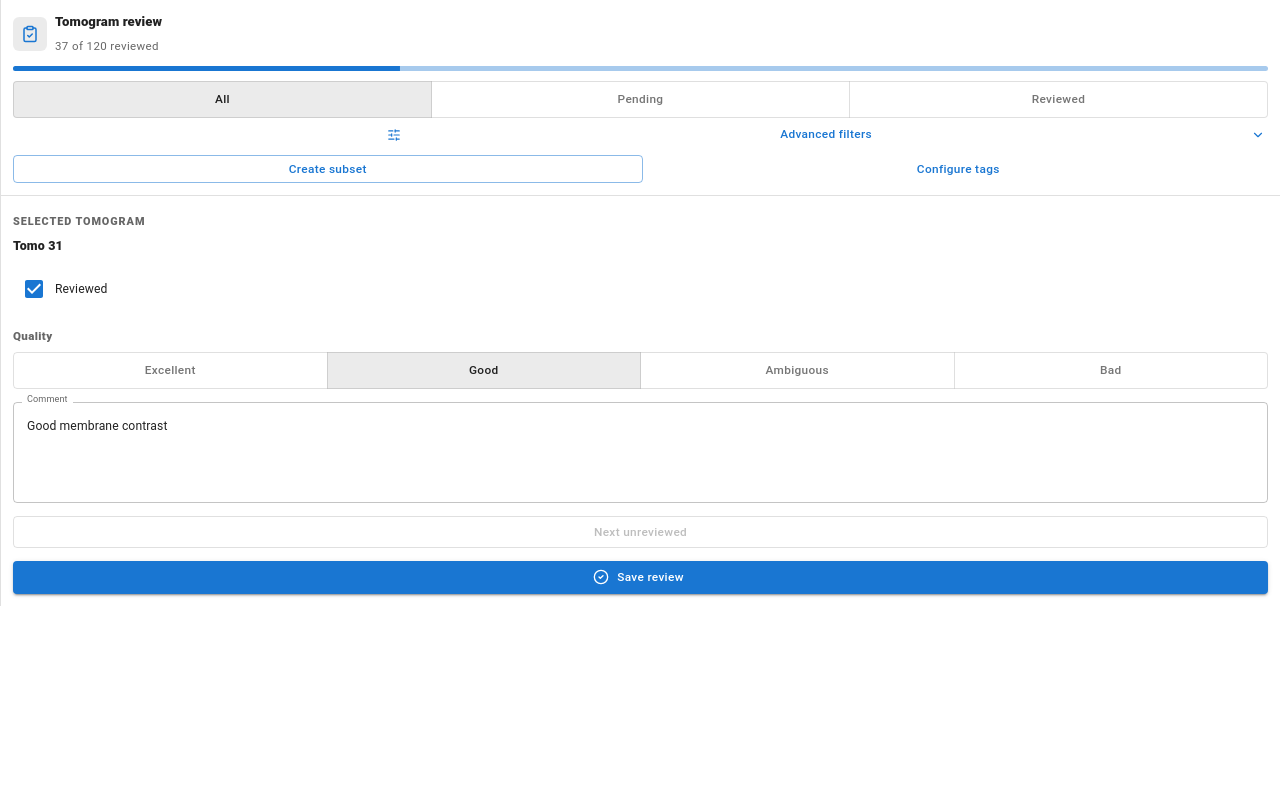
TomogramReviewPanel › adopts the winning state when another user saved first
The image size is (1280, 800).
Expected: the text box showing "Good membrane contrast" is shown, [27,418,1254,486]
Click the button "Save review" at [640, 577], box [13,561,1268,594]
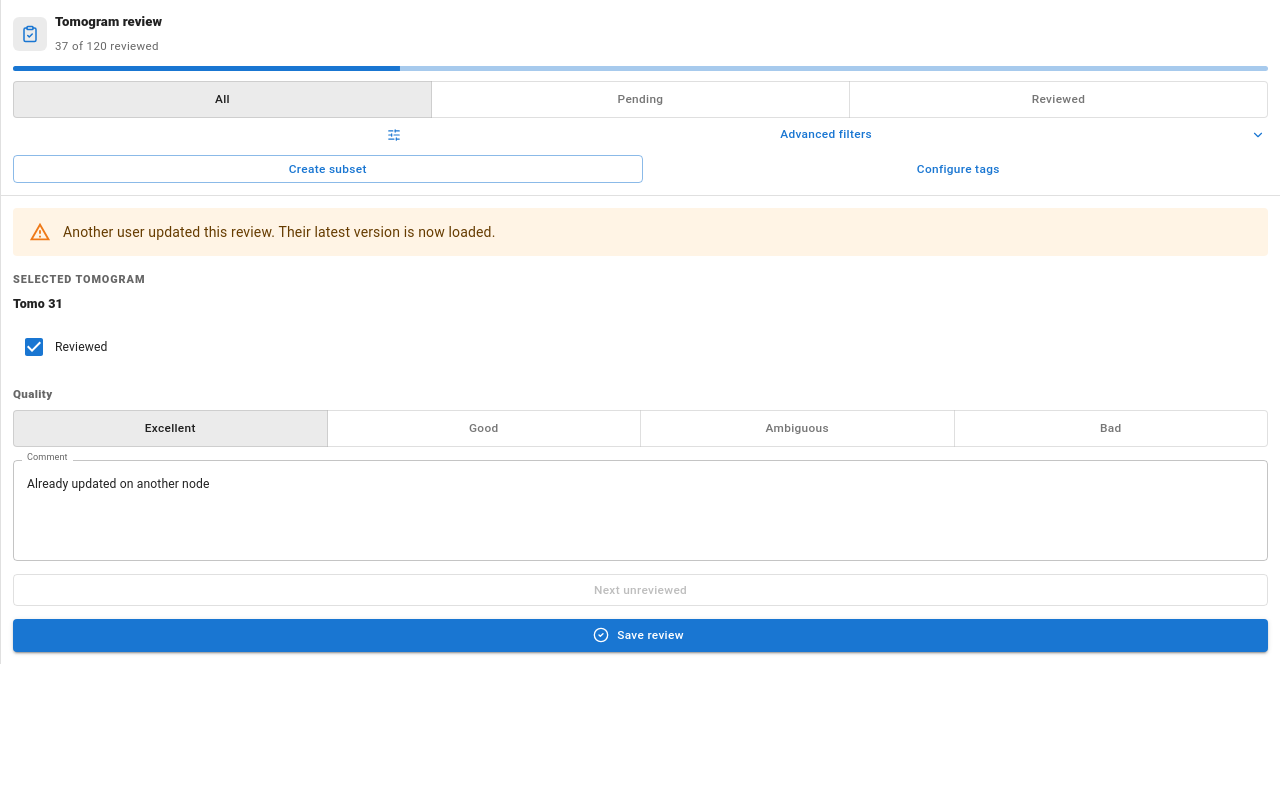
Result: the text "Another user updated this review. Their latest version is now loaded." is shown at [63,224,496,240]
Result: the text box showing "Already updated on another node" is shown at [27,476,1254,544]
